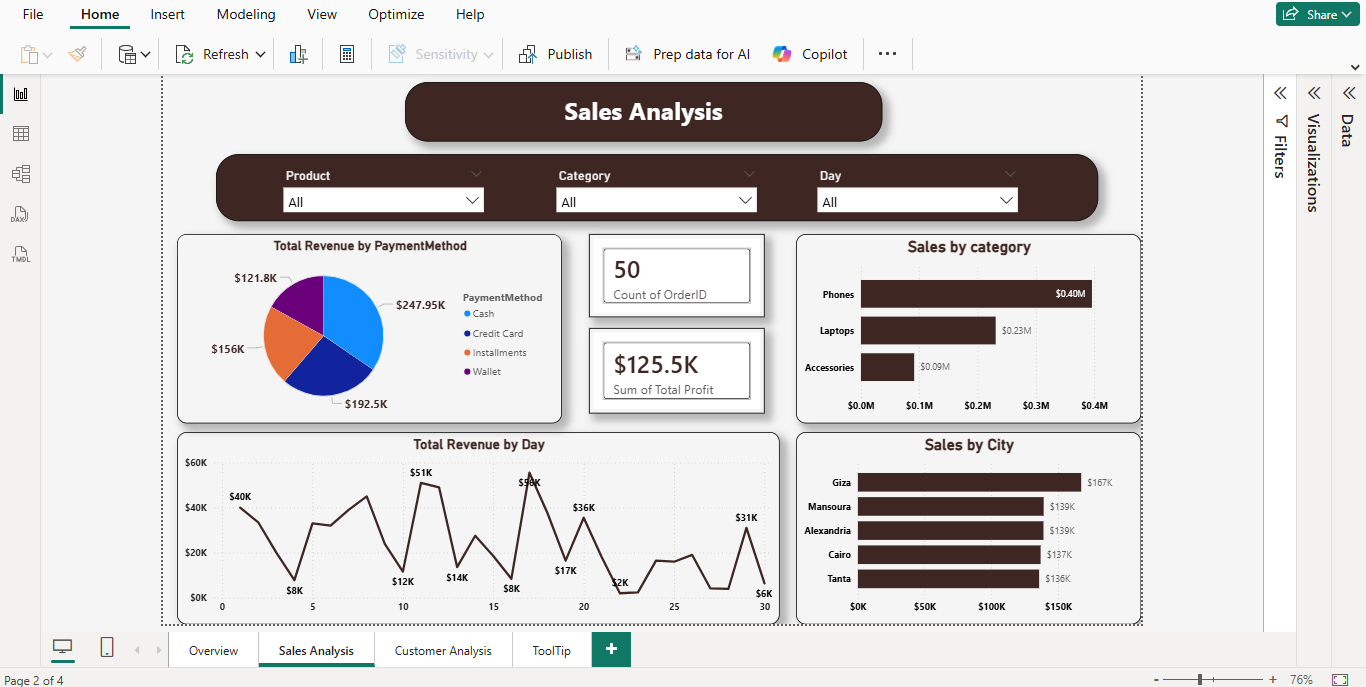

What the dashboard file says about the page in this screenshot:
{"tool":"powerbi","page":{"name":"Sales Analysis","canvas":[1280,720],"ordinal":1},"visuals":[{"type":"textbox","box":[316.8,10.1,625,77.8],"z":0},{"type":"textbox","box":[69.1,105.1,1154.9,87.8],"z":1000},{"type":"slicer","fields":{"Values":["Table1.OrderDate.Variation.Date Hierarchy.Day"]},"box":[846.7,118.1,282.2,63.4],"z":2000},{"type":"slicer","fields":{"Values":["Table1.Category"]},"box":[505.4,118.1,282.2,63.4],"z":3000},{"type":"slicer","fields":{"Values":["Table1.Product"]},"box":[148.3,118.1,282.2,63.4],"z":4000},{"type":"barChart","title":"Sales by category","fields":{"Category":["Table1.Category"],"Y":["Sum(Table1.Total Revenue)"]},"box":[828,208.8,452.2,247.7],"z":5000},{"type":"barChart","title":"Sales by City","fields":{"Category":["Table1.City"],"Y":["Sum(Table1.Total Revenue)"]},"box":[828,468,452.2,252],"z":6000},{"type":"lineChart","title":" Total Revenue by Day","fields":{"Category":["Table1.OrderDate.Variation.Date Hierarchy.Day"],"Y":["Sum(Table1.Total Revenue)"]},"box":[18.7,468,789.1,252],"z":7000},{"type":"pieChart","title":" Total Revenue by PaymentMethod","fields":{"Category":["Table1.PaymentMethod"],"Y":["Sum(Table1.Total Revenue)"]},"box":[18.7,208.8,504,247.7],"z":8000},{"type":"cardVisual","fields":{"Data":["CountNonNull(Table1.OrderID)"]},"box":[557.3,208.8,230.4,109.4],"z":9000},{"type":"cardVisual","fields":{"Data":["Sum(Table1.Total Profit)"]},"box":[557.3,332.6,230.4,112.3],"z":10000}]}

Visuals, with their boxes on the page's 1280x720 design canvas (x1, y1, x2, y2). These are canvas units, not pixel positions in the 1366x687 screenshot, which may show the page scaled, cropped or inside an application window:
textbox: <region>317, 10, 942, 88</region>
textbox: <region>69, 105, 1224, 193</region>
slicer - Table1.OrderDate.Variation.Date Hierarchy.Day: <region>847, 118, 1129, 182</region>
slicer - Table1.Category: <region>505, 118, 788, 182</region>
slicer - Table1.Product: <region>148, 118, 430, 182</region>
"Sales by category" barChart: <region>828, 209, 1280, 456</region>
"Sales by City" barChart: <region>828, 468, 1280, 720</region>
" Total Revenue by Day" lineChart: <region>19, 468, 808, 720</region>
" Total Revenue by PaymentMethod" pieChart: <region>19, 209, 523, 456</region>
cardVisual - CountNonNull(Table1.OrderID): <region>557, 209, 788, 318</region>
cardVisual - Sum(Table1.Total Profit): <region>557, 333, 788, 445</region>
